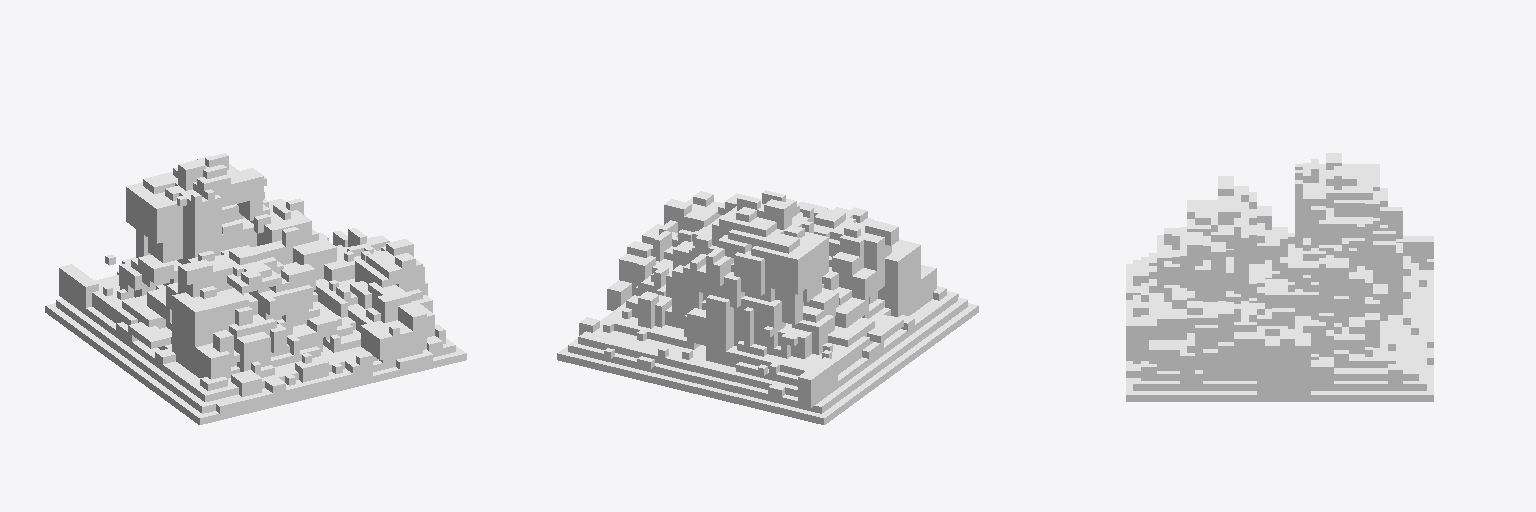
File: mountain_v1.obj
3 views of the same model, side by side, from view 1: azimuth 30°, elevation 25°; view 2: azimuth 150°, elevation 25°; view 3: azimuth 270°, elevation 25° (orthographic).
Visible parts, largest first — view 1: object 1; view 2: object 1; view 3: object 1.
Boxes of the visible parts, box(x1,y1,x2,y2) form: object 1: box(45, 153, 466, 424); object 1: box(557, 190, 978, 424); object 1: box(1126, 153, 1433, 401).
Bounding box in the file's own units: 4 × 2.3 × 4.